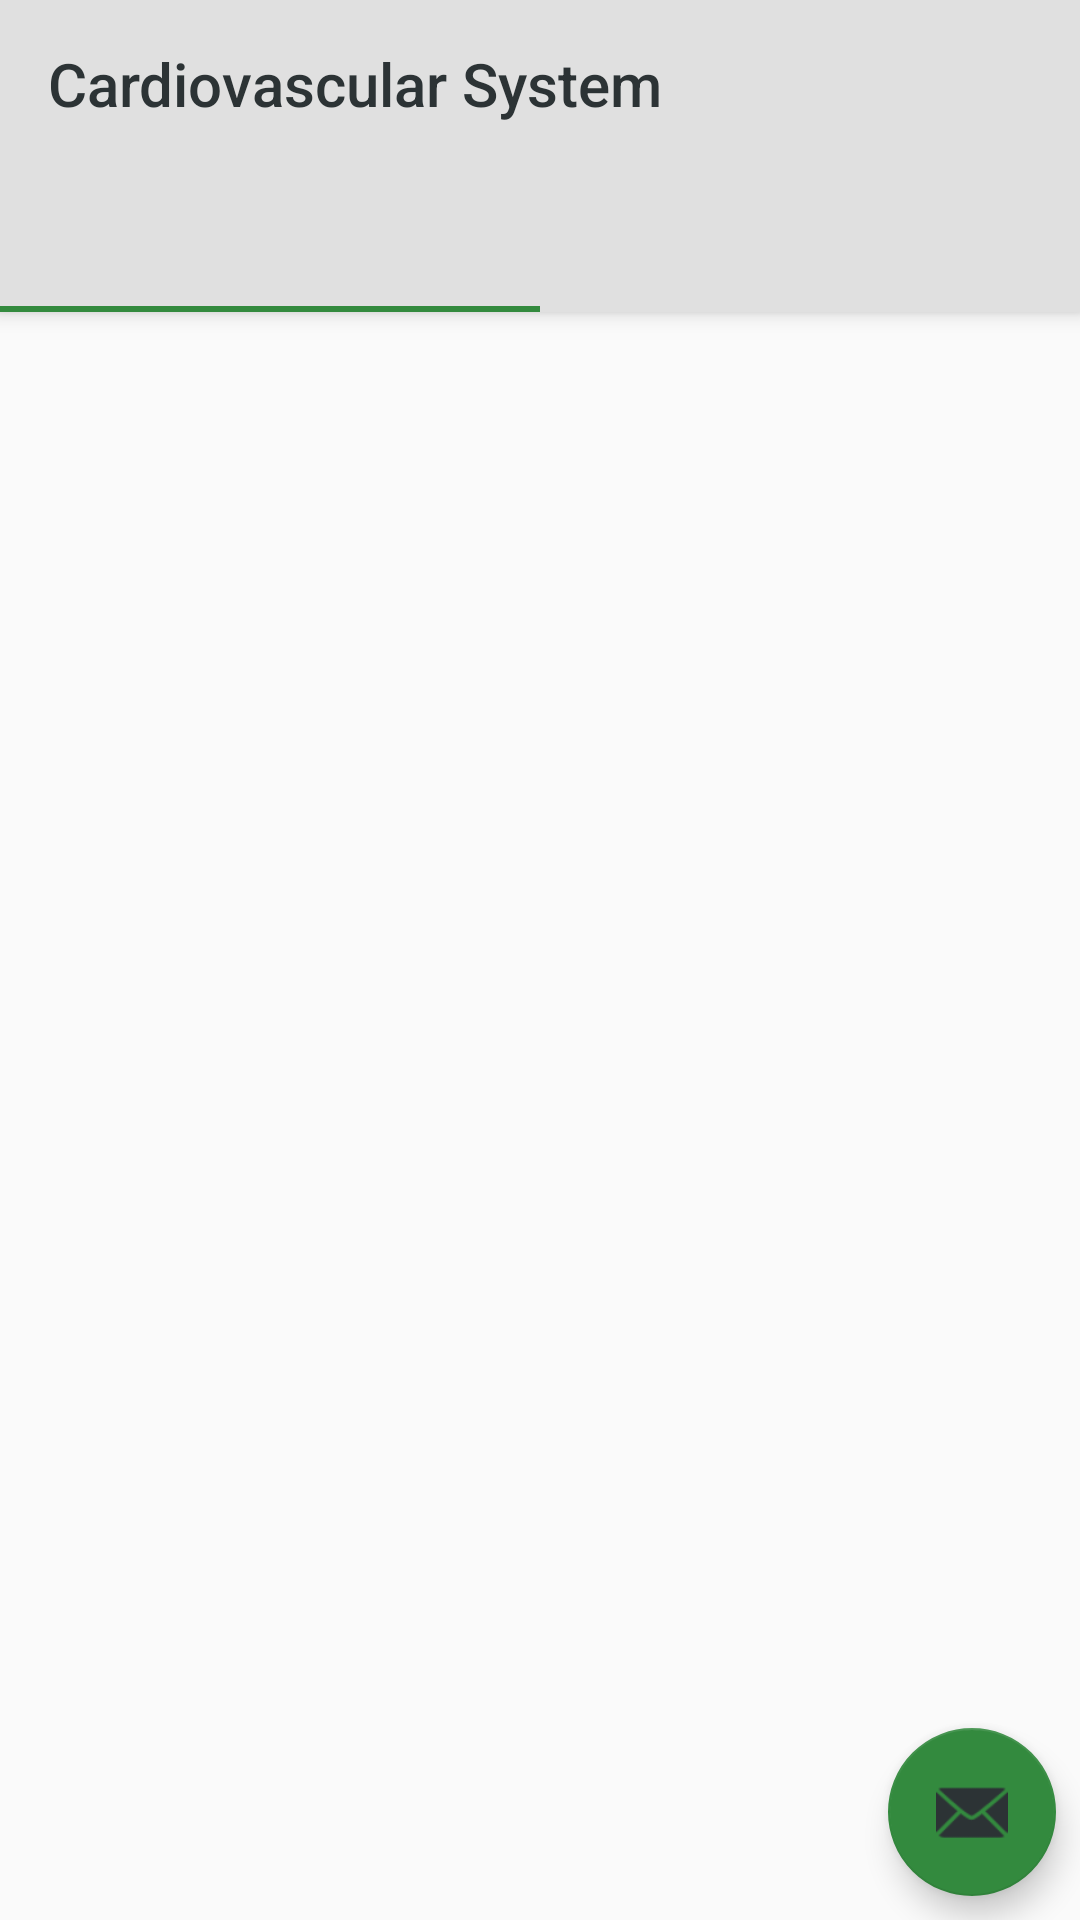

Icon bounding boxes for this 1080px x 1920px phone screenshot, format (x1, y1, x2, y2):
email: (888, 1728, 1056, 1896)
